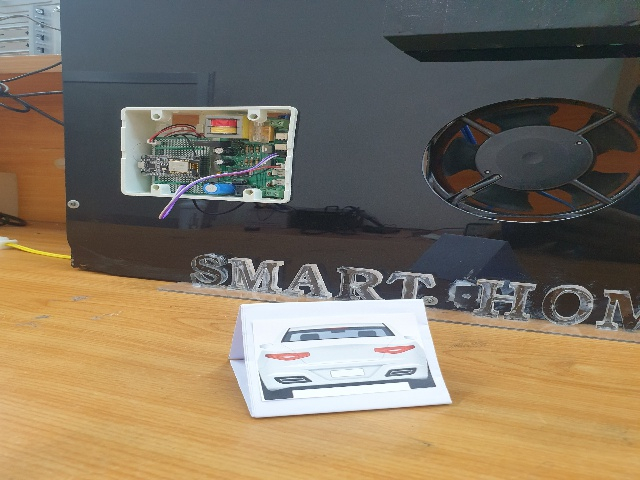Car: (251, 318, 435, 398)
